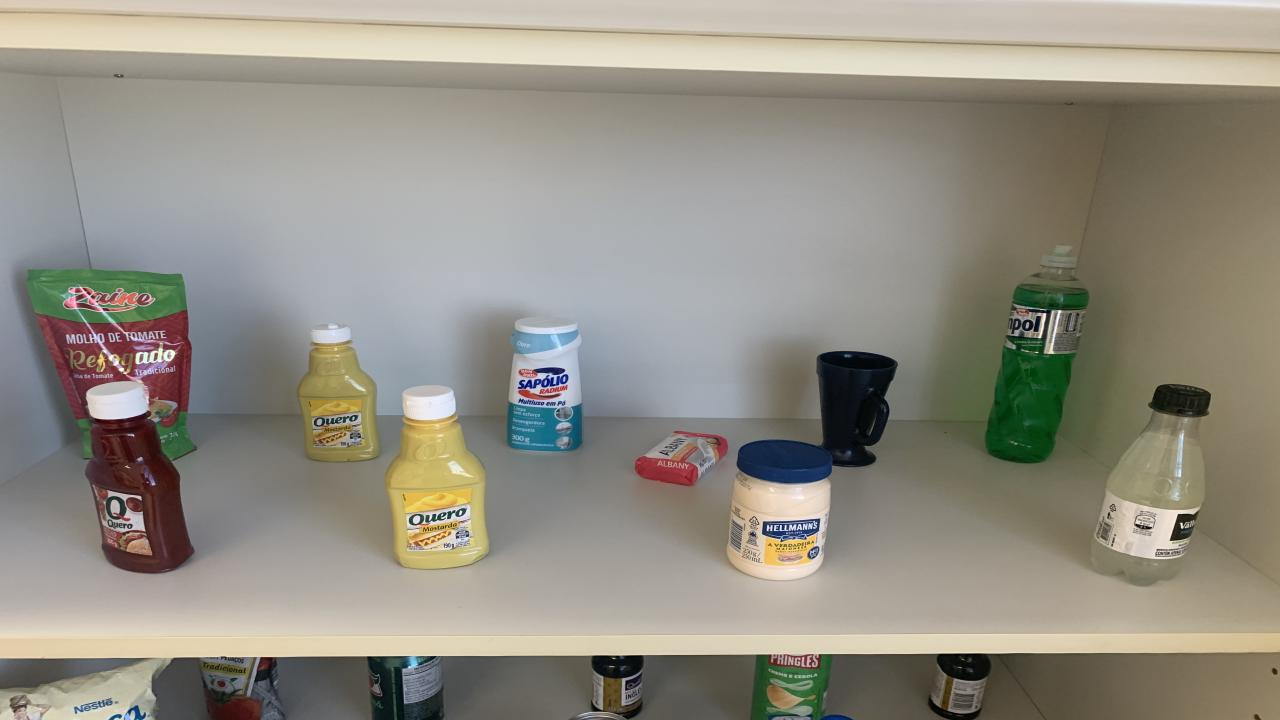Cleaner-Cleanup_Items: (508, 317, 582, 452)
Detergent-Cleanup_Items: (985, 246, 1090, 463)
English_Sauce-Pantry_Items: (930, 654, 990, 720), (592, 656, 645, 718)
Flakes-Snacks: (0, 658, 170, 720)
Guarana_Can-Drinks: (368, 656, 442, 720)
Ketchup-Pantry_Items: (85, 381, 192, 574)
Mayonnaise-Pantry_Items: (728, 441, 832, 579)
Mustard-Pantry_Items: (385, 386, 488, 568), (298, 324, 380, 461)
Pringles-Snacks: (750, 654, 832, 720)
Soap-Cleanup_Items: (635, 431, 728, 486)
Soda-Drinks: (1090, 384, 1210, 587)
Tomato_Sauce-Pantry_Items: (28, 270, 195, 458), (200, 656, 285, 720)
